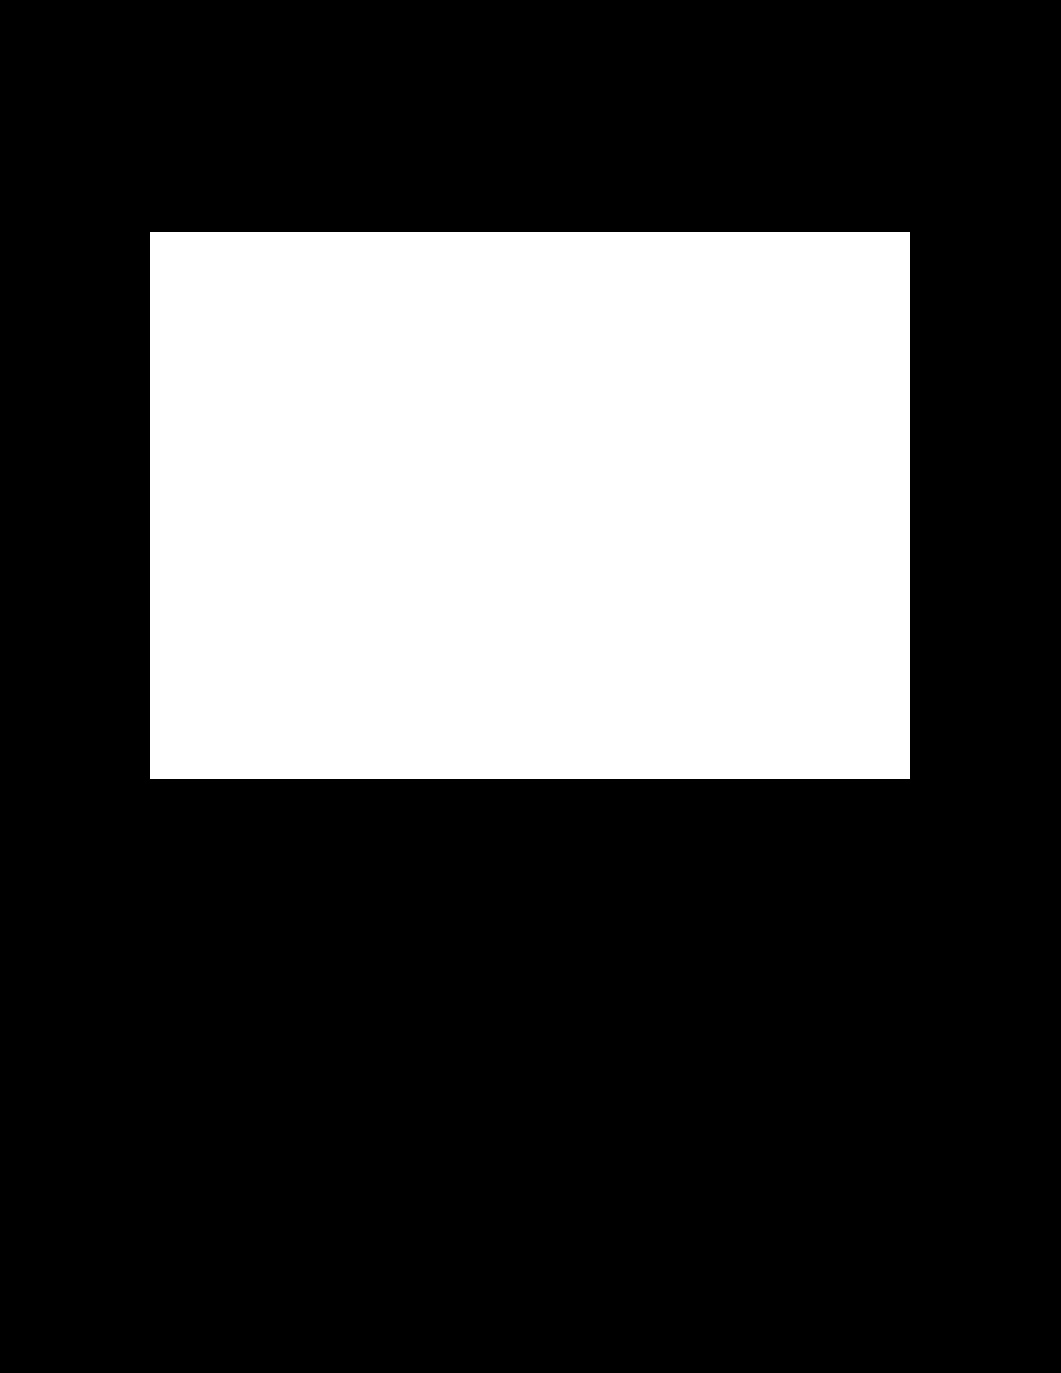table: (150, 232, 909, 778)
